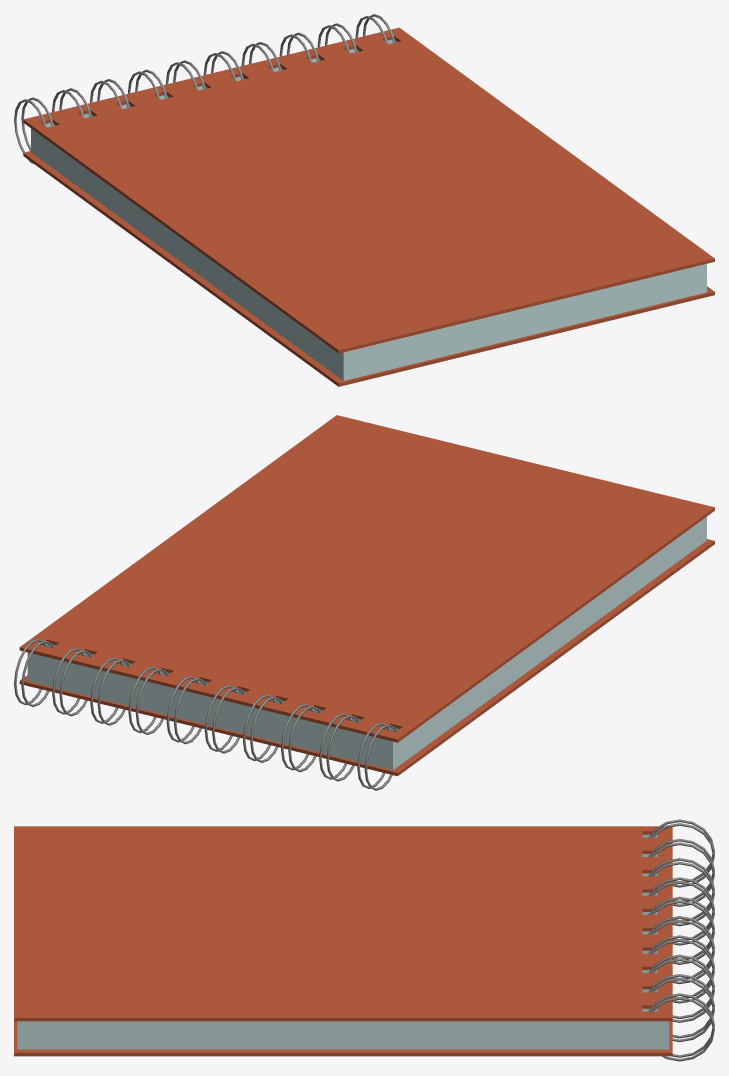
Rendered from sketchbook.gltf.
The picture shows the model from 3 angles, top to bottom: view 1: azimuth 30°, elevation 25°; view 2: azimuth 150°, elevation 25°; view 3: azimuth 270°, elevation 25°; orthographic projection. The views are drawn at different scales.
Parts seen in each view (by area): view 1: Cube.017, Cube.016, Circle.015; view 2: Cube.017, Cube.016, Circle.015; view 3: Cube.017, Cube.016, Circle.015.
Part boxes in pixels (left/top/right/bottom): Cube.017: left=23, top=27, right=714, bottom=353; Cube.016: left=23, top=39, right=714, bottom=386; Circle.015: left=14, top=14, right=395, bottom=164; Cube.017: left=19, top=415, right=714, bottom=742; Cube.016: left=19, top=516, right=714, bottom=776; Circle.015: left=14, top=639, right=396, bottom=790; Cube.017: left=14, top=826, right=672, bottom=1021; Cube.016: left=14, top=834, right=672, bottom=1056; Circle.015: left=648, top=819, right=714, bottom=1061.
Bounding box in the file's own units: 11.99 × 1.86 × 18.54.
